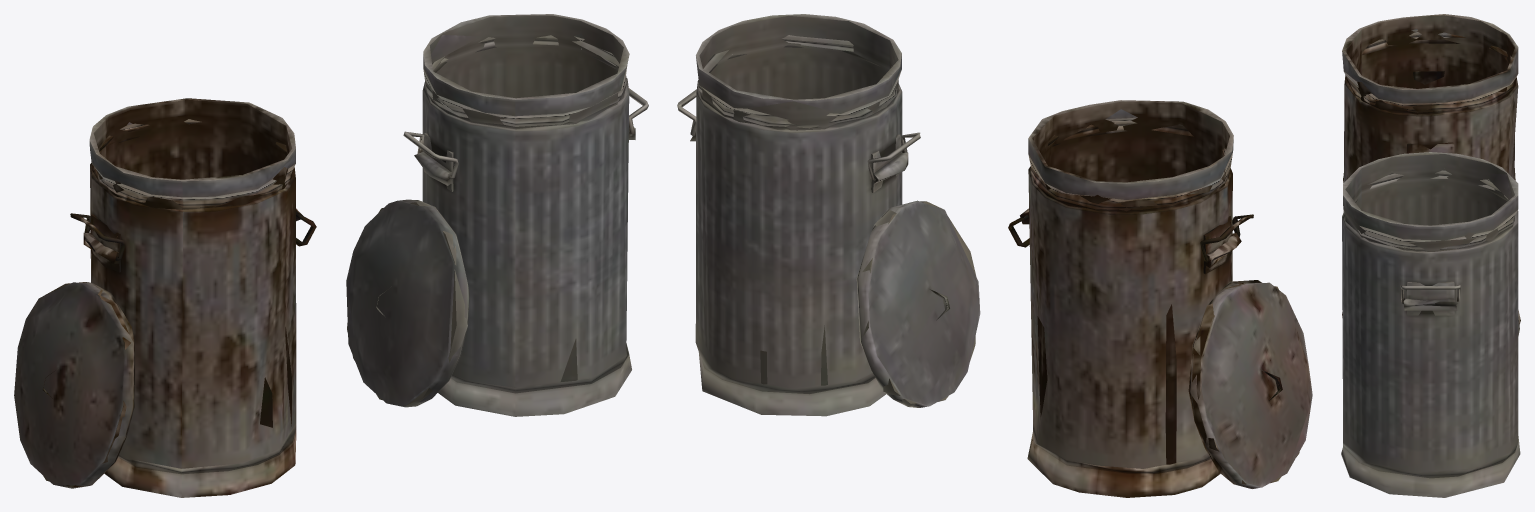
File: trashCan_lo.glb
The picture shows the model from 3 angles, left to right: view 1: azimuth 30°, elevation 25°; view 2: azimuth 150°, elevation 25°; view 3: azimuth 270°, elevation 25°; orthographic projection. The views are drawn at different scales.
Visible parts, largest first — view 1: metal_trash_can, metal_trash_can_rust, metal_trash_can_lid, metal_trash_can_rust_lid; view 2: metal_trash_can, metal_trash_can_rust, metal_trash_can_rust_lid, metal_trash_can_lid; view 3: metal_trash_can, metal_trash_can_rust, metal_trash_can_handle_right.
Boxes of the visible parts, box(x1,y1,x2,y2) form: metal_trash_can: box(414, 14, 635, 416); metal_trash_can_rust: box(83, 98, 302, 497); metal_trash_can_lid: box(346, 199, 469, 407); metal_trash_can_rust_lid: box(14, 282, 134, 488); metal_trash_can: box(690, 14, 908, 416); metal_trash_can_rust: box(1020, 100, 1241, 497); metal_trash_can_rust_lid: box(1188, 280, 1312, 488); metal_trash_can_lid: box(856, 200, 980, 407); metal_trash_can: box(1341, 152, 1520, 497); metal_trash_can_rust: box(1342, 14, 1520, 324); metal_trash_can_handle_right: box(1400, 285, 1460, 306).
Size of the model in its own units: 1.78 by 0.9062 by 0.5462.
2 materials, 2 textured.
